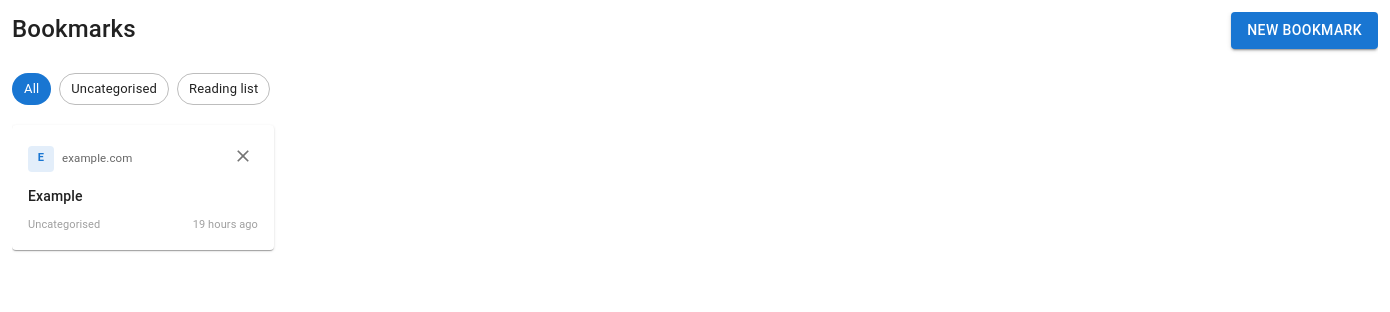
Test: BookmarksPage › optimistically removes a bookmark on delete
Expected: the heading "Example" is shown, [28,188,83,204]
Step 1. Click the button named "Delete Example" → [243, 158], box [228,140,258,176]
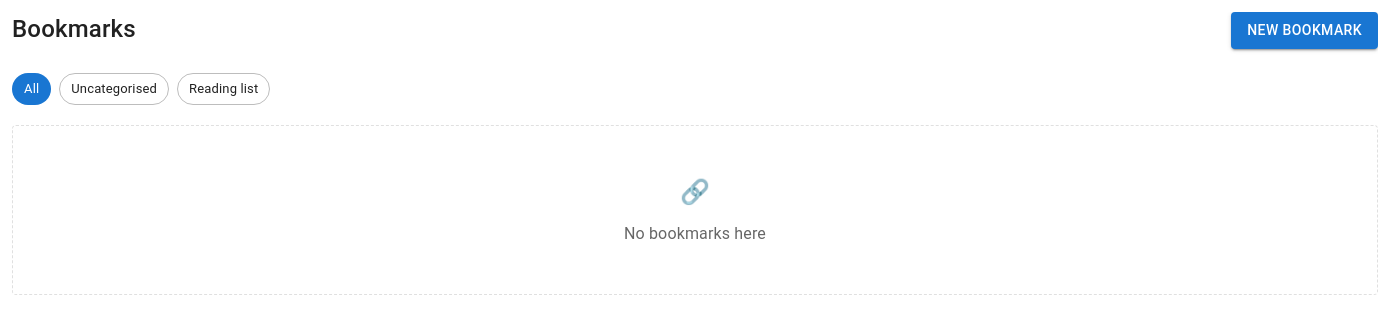
Expected: the link "example" is gone
